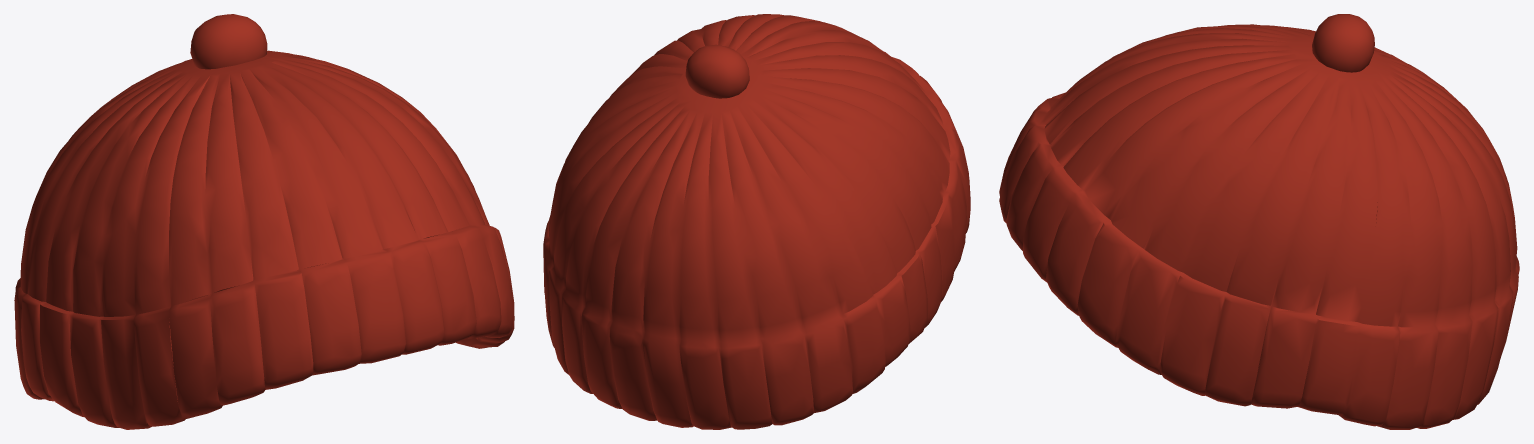
File: headwear-beanie-red-926a6d98.glb
The picture shows the model from 3 angles, left to right: view 1: azimuth 30°, elevation 25°; view 2: azimuth 150°, elevation 25°; view 3: azimuth 270°, elevation 25°; orthographic projection. The views are drawn at different scales.
Visible parts, largest first — view 1: Geo_Black_Older_Female_Beanie_Red.001; view 2: Geo_Black_Older_Female_Beanie_Red.001; view 3: Geo_Black_Older_Female_Beanie_Red.001.
Boxes of the visible parts, <box> form: Geo_Black_Older_Female_Beanie_Red.001: <box>14,14,514,429</box>; Geo_Black_Older_Female_Beanie_Red.001: <box>543,14,970,429</box>; Geo_Black_Older_Female_Beanie_Red.001: <box>999,14,1519,429</box>.
Size of the model in its own units: 1.57 by 1.42 by 1.85.
